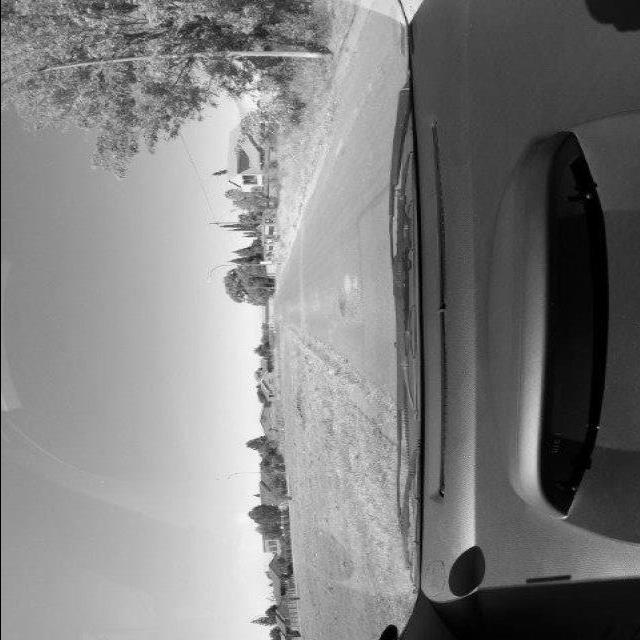lubang: (330, 100, 370, 160), (329, 277, 355, 322)
